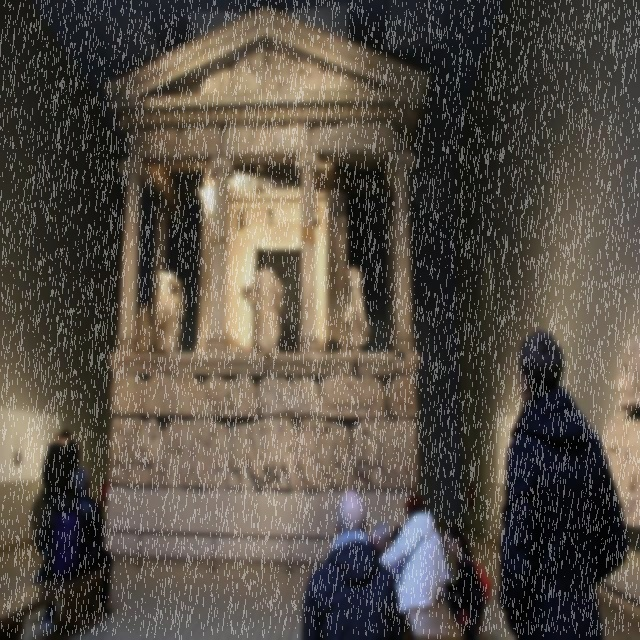pessoa: (497, 329, 631, 639), (111, 372, 418, 496), (300, 488, 400, 639), (368, 490, 447, 639), (35, 473, 81, 630), (200, 46, 344, 91), (71, 466, 113, 616), (438, 526, 485, 640), (240, 263, 283, 356), (152, 260, 184, 352), (342, 264, 372, 354), (41, 433, 72, 506), (434, 516, 457, 599), (388, 525, 406, 583), (60, 429, 80, 474), (370, 522, 391, 556), (100, 476, 109, 507)
